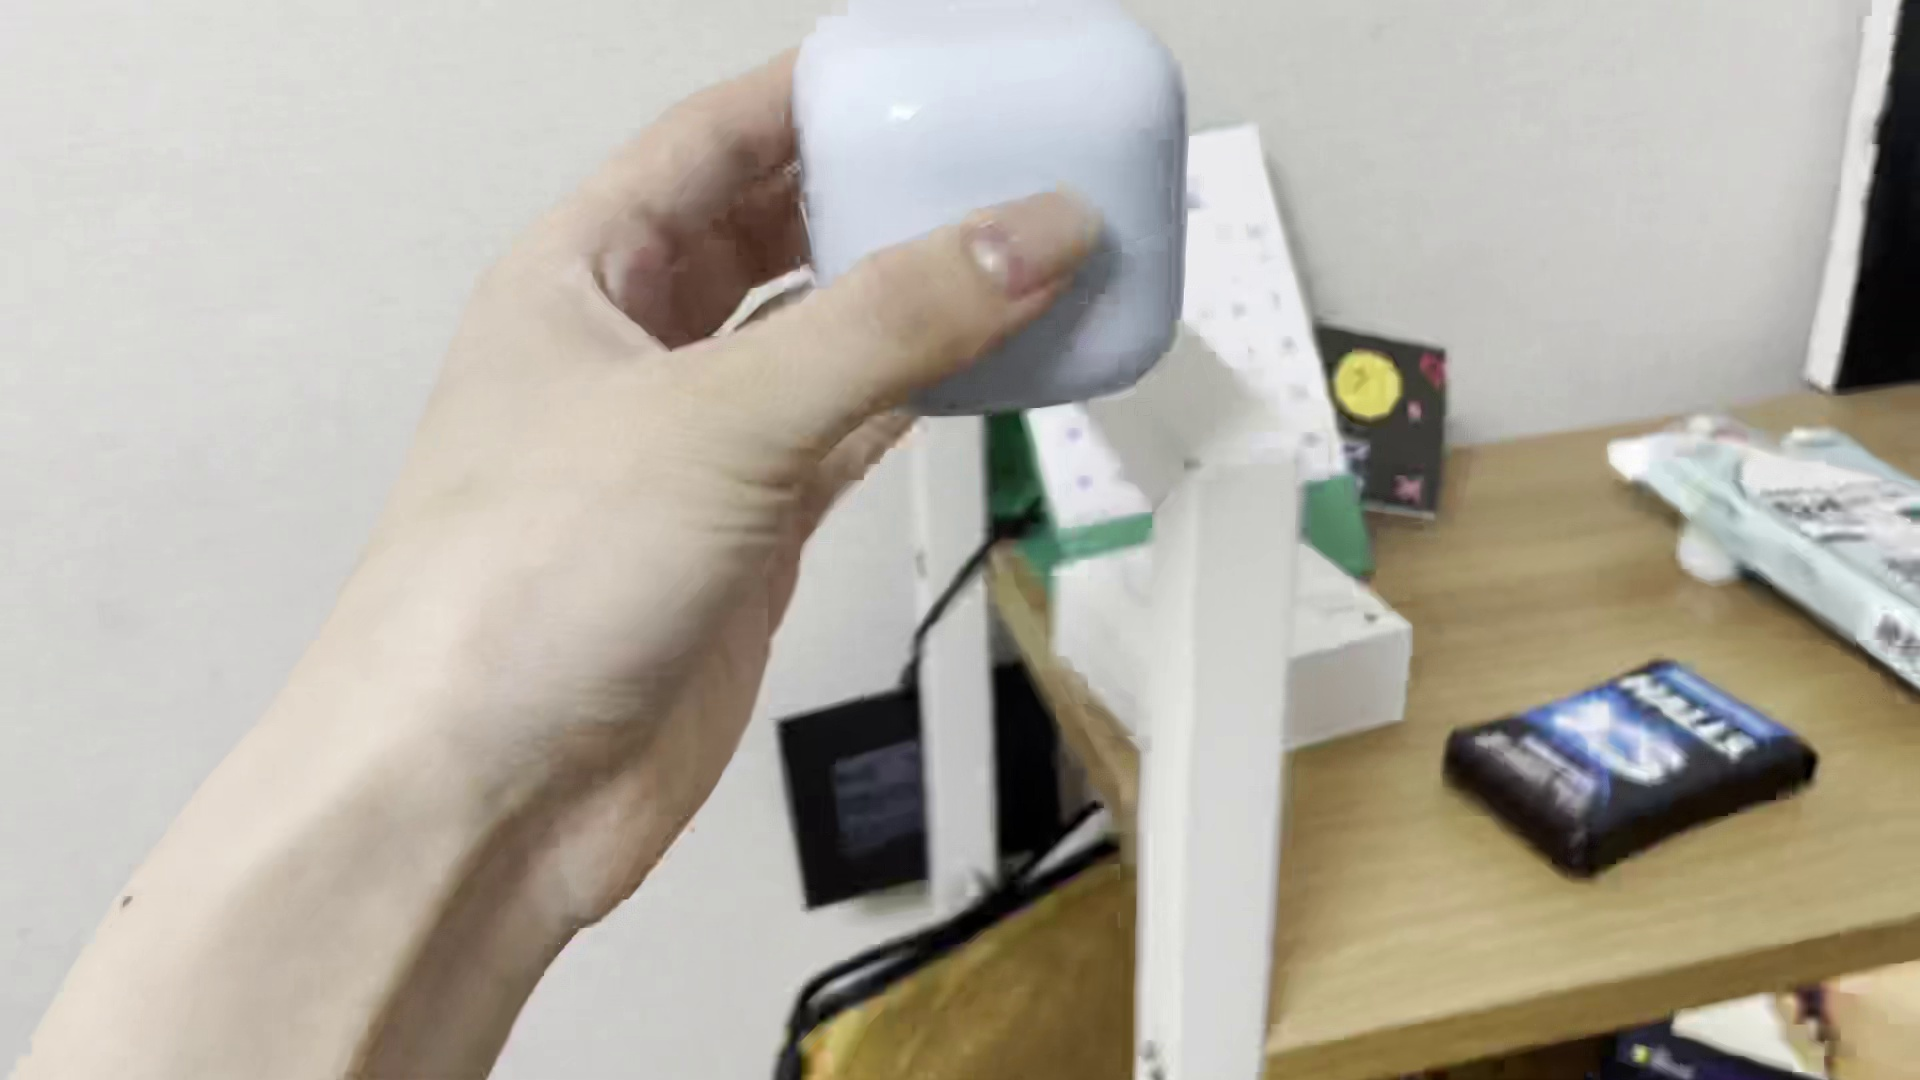cream: (783, 1, 1182, 407)
